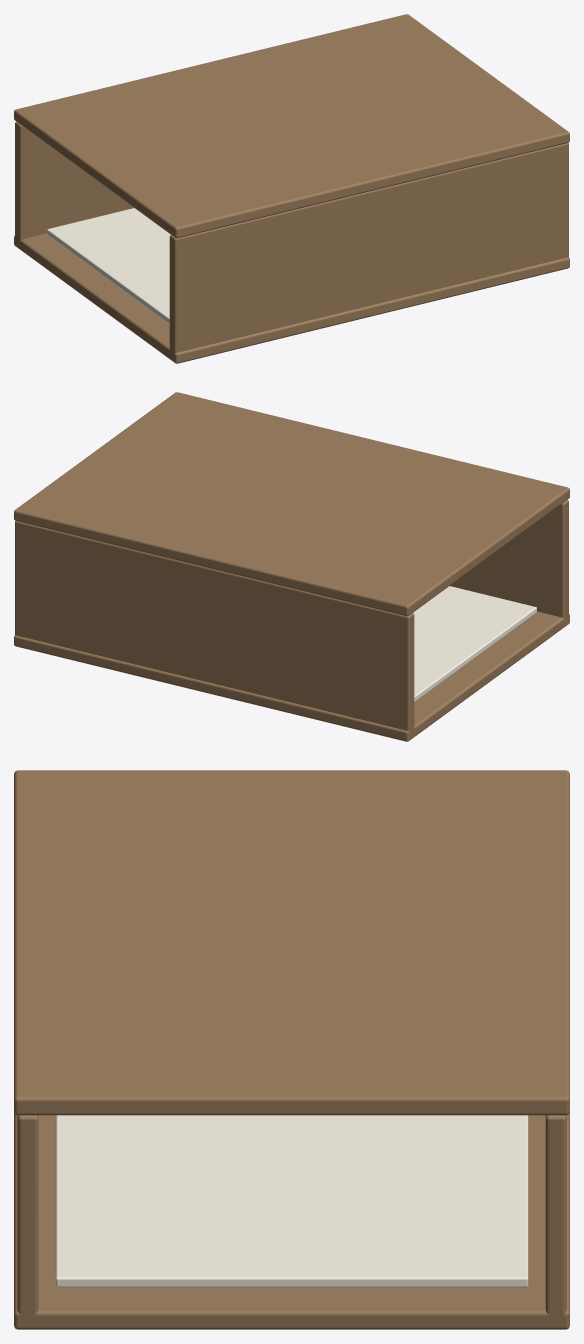
The model's file is marquetry-and-veneer-inlay-workshop-fitted-panel-shipp-0d6ab887__39131.glb.
The picture shows the model from 3 angles, top to bottom: view 1: azimuth 30°, elevation 25°; view 2: azimuth 150°, elevation 25°; view 3: azimuth 270°, elevation 25°; orthographic projection. The views are drawn at different scales.
Parts seen in each view (by area): view 1: fitted-panel-shipping-sleeve; view 2: fitted-panel-shipping-sleeve; view 3: fitted-panel-shipping-sleeve.
Boxes of the visible parts, bbox=[...] form: fitted-panel-shipping-sleeve: bbox=[14, 14, 569, 363]; fitted-panel-shipping-sleeve: bbox=[14, 392, 569, 741]; fitted-panel-shipping-sleeve: bbox=[14, 770, 569, 1329].
Size of the model in its own units: 0.56 by 0.185 by 0.4.
